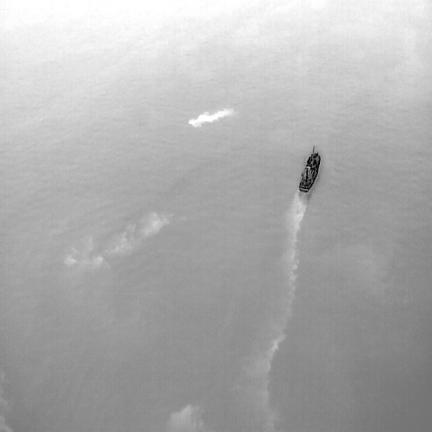flukeprints: (188, 109, 233, 127)
